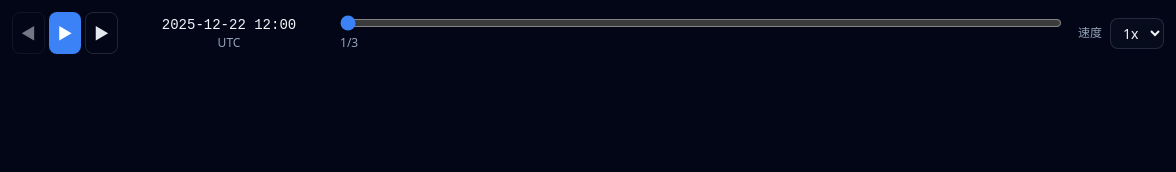
Test: TimeController › cancels pending debounced work when frames change
This screenshot has width=1176, height=172.
Press the mouse on the slider named "时间轴": (701, 23) [340, 15, 1062, 31]
Set the slider named "时间轴" to "2": (1054, 23) [340, 15, 1062, 31]
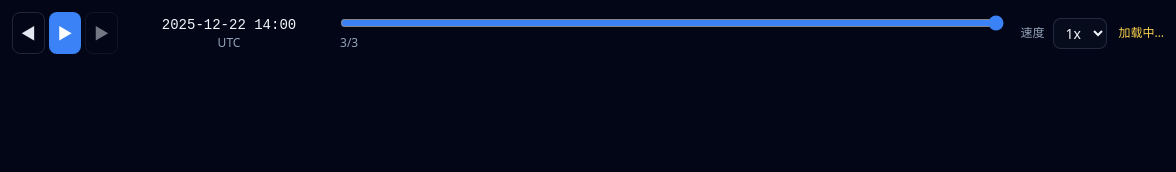
Check: the text labelled "加载中" is shown, box [1118, 25, 1164, 41]
